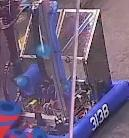blue_number: (88, 102, 110, 133)
